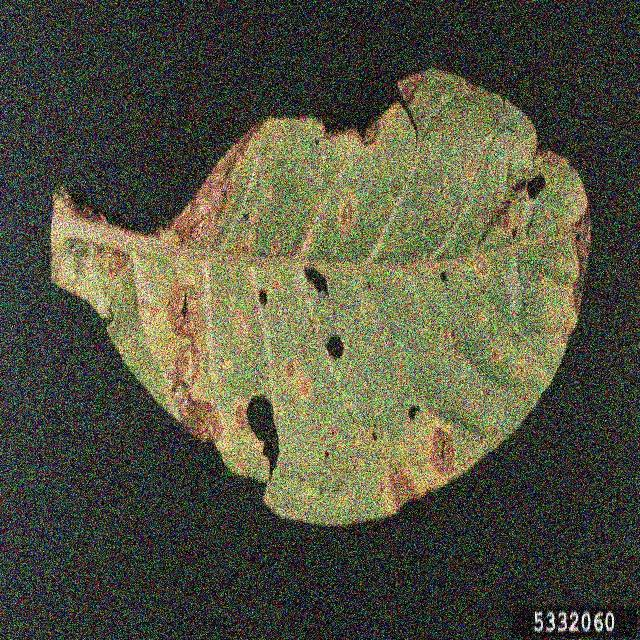shot_hole: (40, 52, 607, 566)
